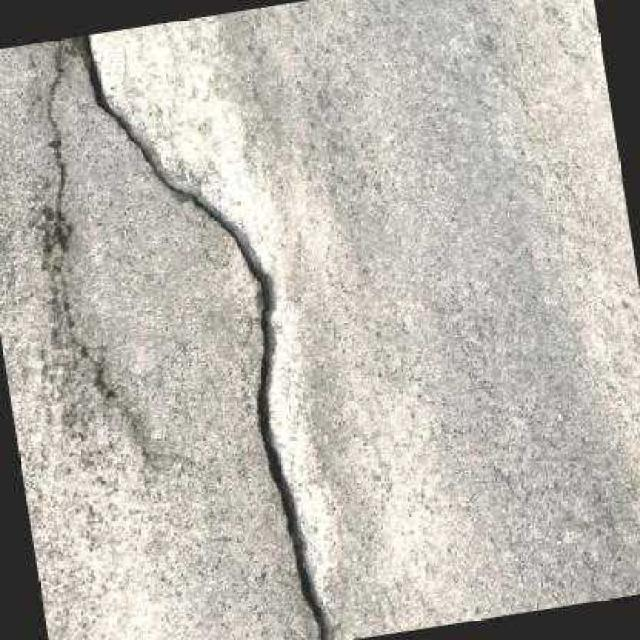D00: (76, 33, 330, 640), (30, 37, 176, 460)
